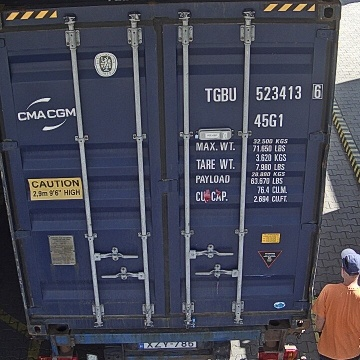serial_id: (205, 84, 322, 101)
